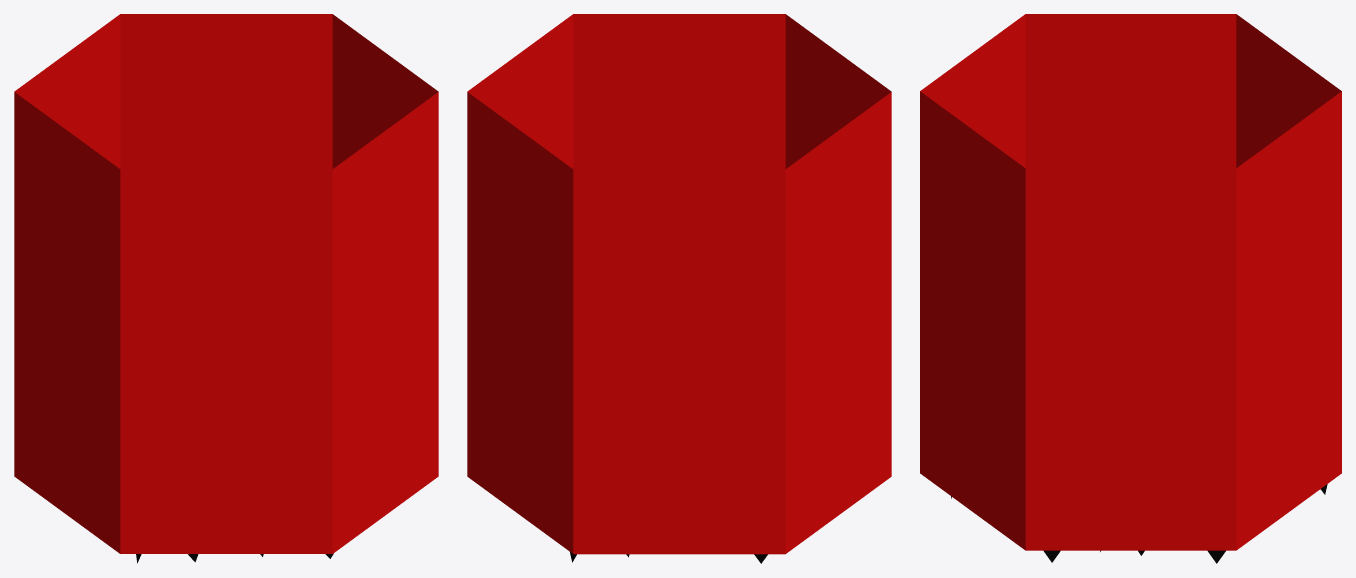
Rendered from Hex.obj.
3 views of the same model, side by side, from view 1: azimuth 30°, elevation 25°; view 2: azimuth 150°, elevation 25°; view 3: azimuth 270°, elevation 25° (orthographic).
Parts seen in each view (by area): view 1: Hexagon_Cylinder.003; view 2: Hexagon_Cylinder.003; view 3: Hexagon_Cylinder.003.
Boxes of the visible parts, bbox=[...] form: Hexagon_Cylinder.003: bbox=[14, 14, 438, 563]; Hexagon_Cylinder.003: bbox=[467, 14, 891, 563]; Hexagon_Cylinder.003: bbox=[920, 14, 1341, 563].
Bounding box in the file's own units: 6.93 × 8.41 × 8.
